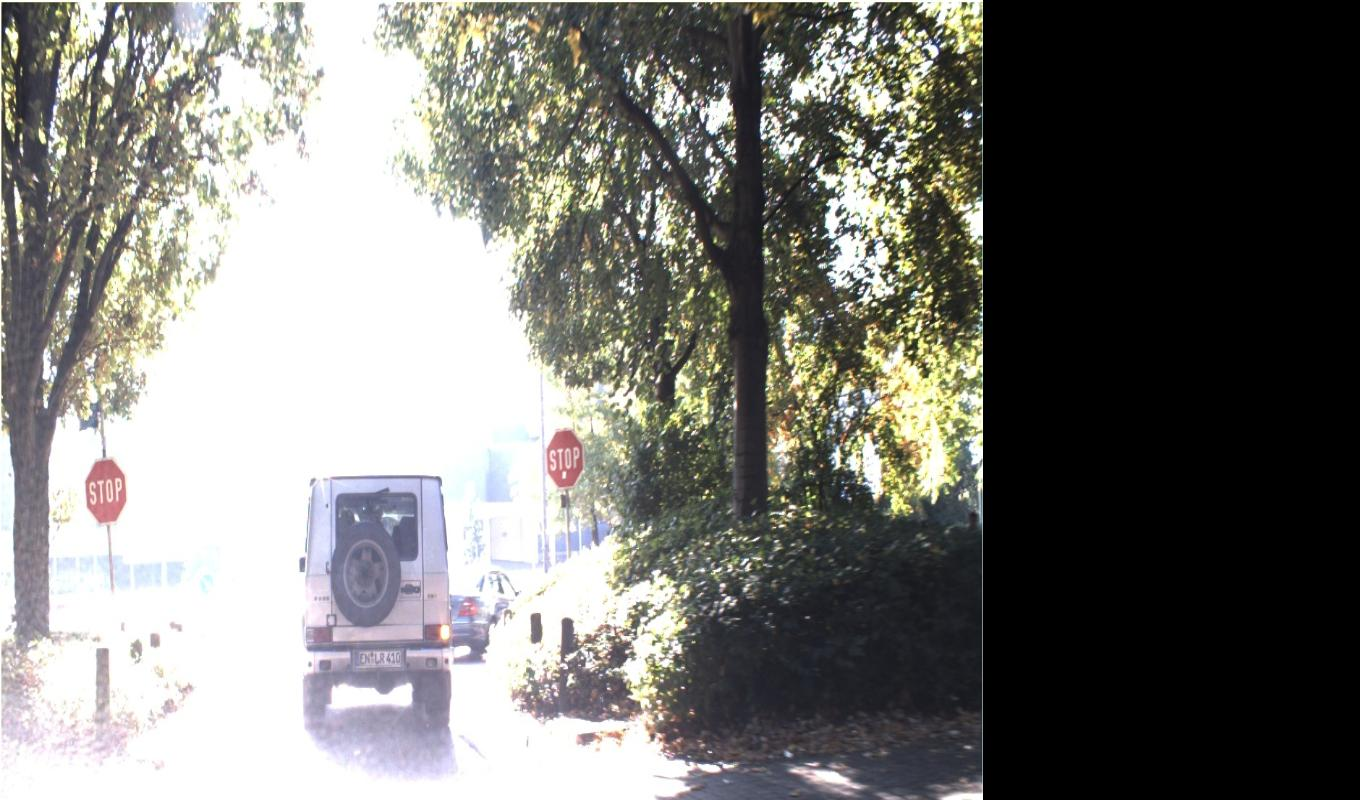stop: (84, 427, 585, 526)
